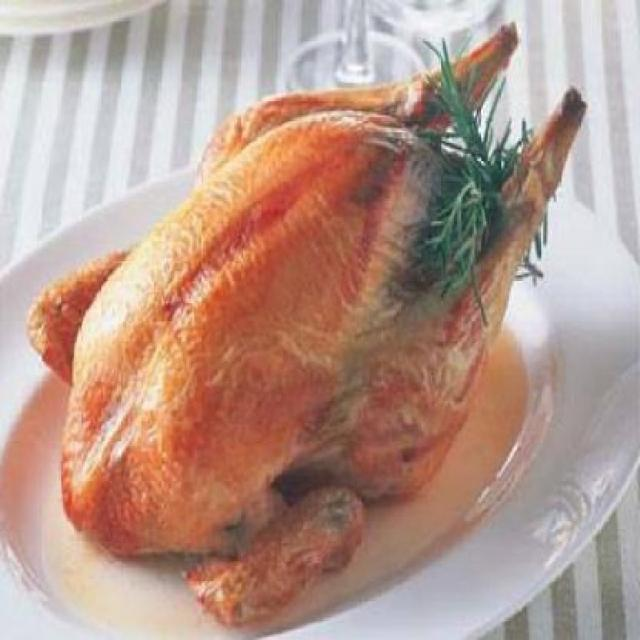Chicken roast: (30, 31, 562, 592)
